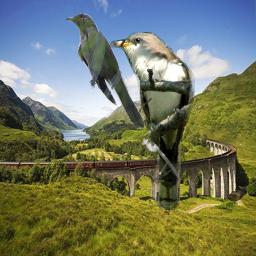Cuckoo: (109, 32, 195, 210), (66, 13, 148, 130)
